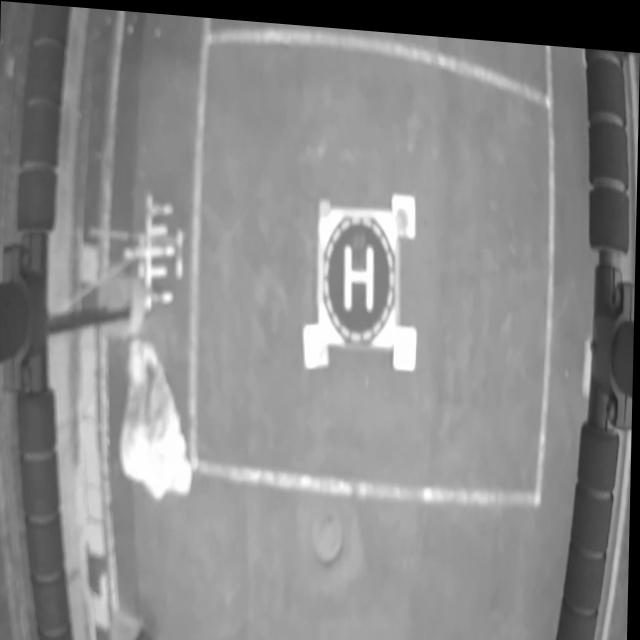Helipad: (343, 235, 375, 306)
